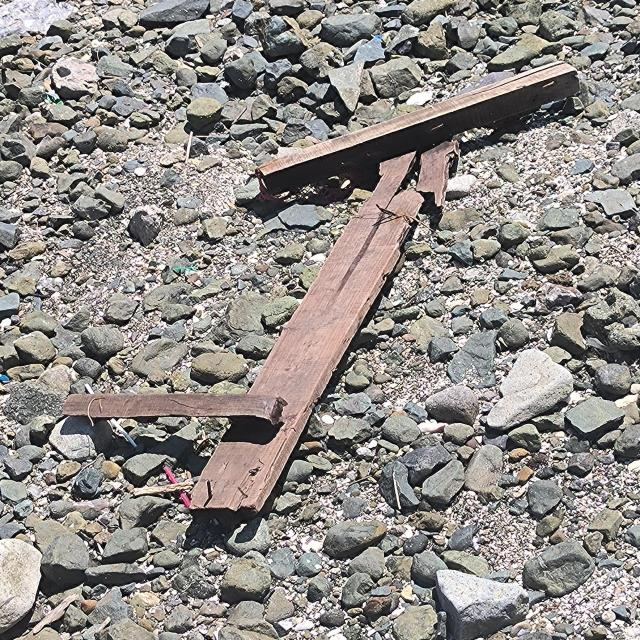wood_waste: (187, 147, 428, 519), (256, 59, 582, 200), (61, 393, 290, 426)
